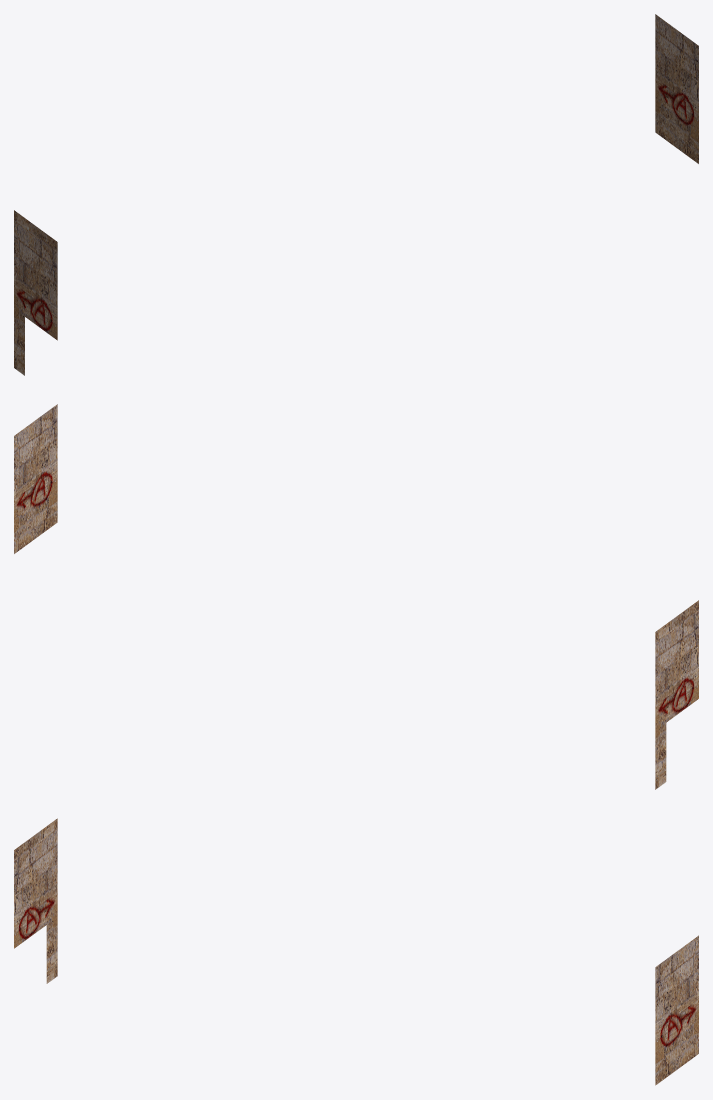
3 views of the same model, one above another, from view 1: azimuth 30°, elevation 25°; view 2: azimuth 150°, elevation 25°; view 3: azimuth 330°, elevation 25° (orthographic).
Visible parts, largest first — view 1: Object_9; view 2: Object_9; view 3: Object_9.
Boxes of the visible parts, bbox=[...] form: Object_9: bbox=[14, 14, 698, 375]; Object_9: bbox=[14, 404, 698, 789]; Object_9: bbox=[14, 818, 698, 1085].
Size of the model in its own units: 14.51 by 4.27 by 1.71.
Materials: 1 (1 with a texture image).
